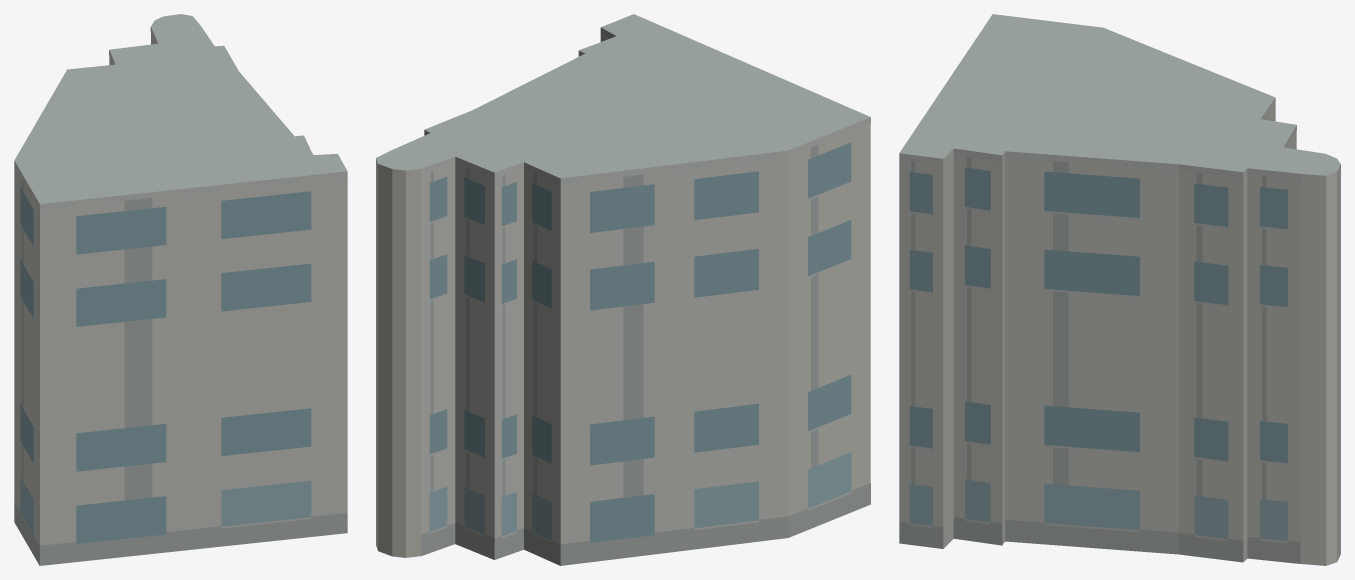
The model's file is survey-upis-32756144.glb.
The picture shows the model from 3 angles, left to right: view 1: azimuth 30°, elevation 25°; view 2: azimuth 150°, elevation 25°; view 3: azimuth 270°, elevation 25°; orthographic projection. The views are drawn at different scales.
Visible parts, largest first — view 1: survey-upis-32756144.tmp; view 2: survey-upis-32756144.tmp; view 3: survey-upis-32756144.tmp.
Part boxes in pixels (bbox=[...]): survey-upis-32756144.tmp: bbox=[14, 14, 347, 565]; survey-upis-32756144.tmp: bbox=[376, 14, 870, 565]; survey-upis-32756144.tmp: bbox=[899, 14, 1340, 565].
Size of the model in its own units: 13.57 by 15.25 by 15.65.
